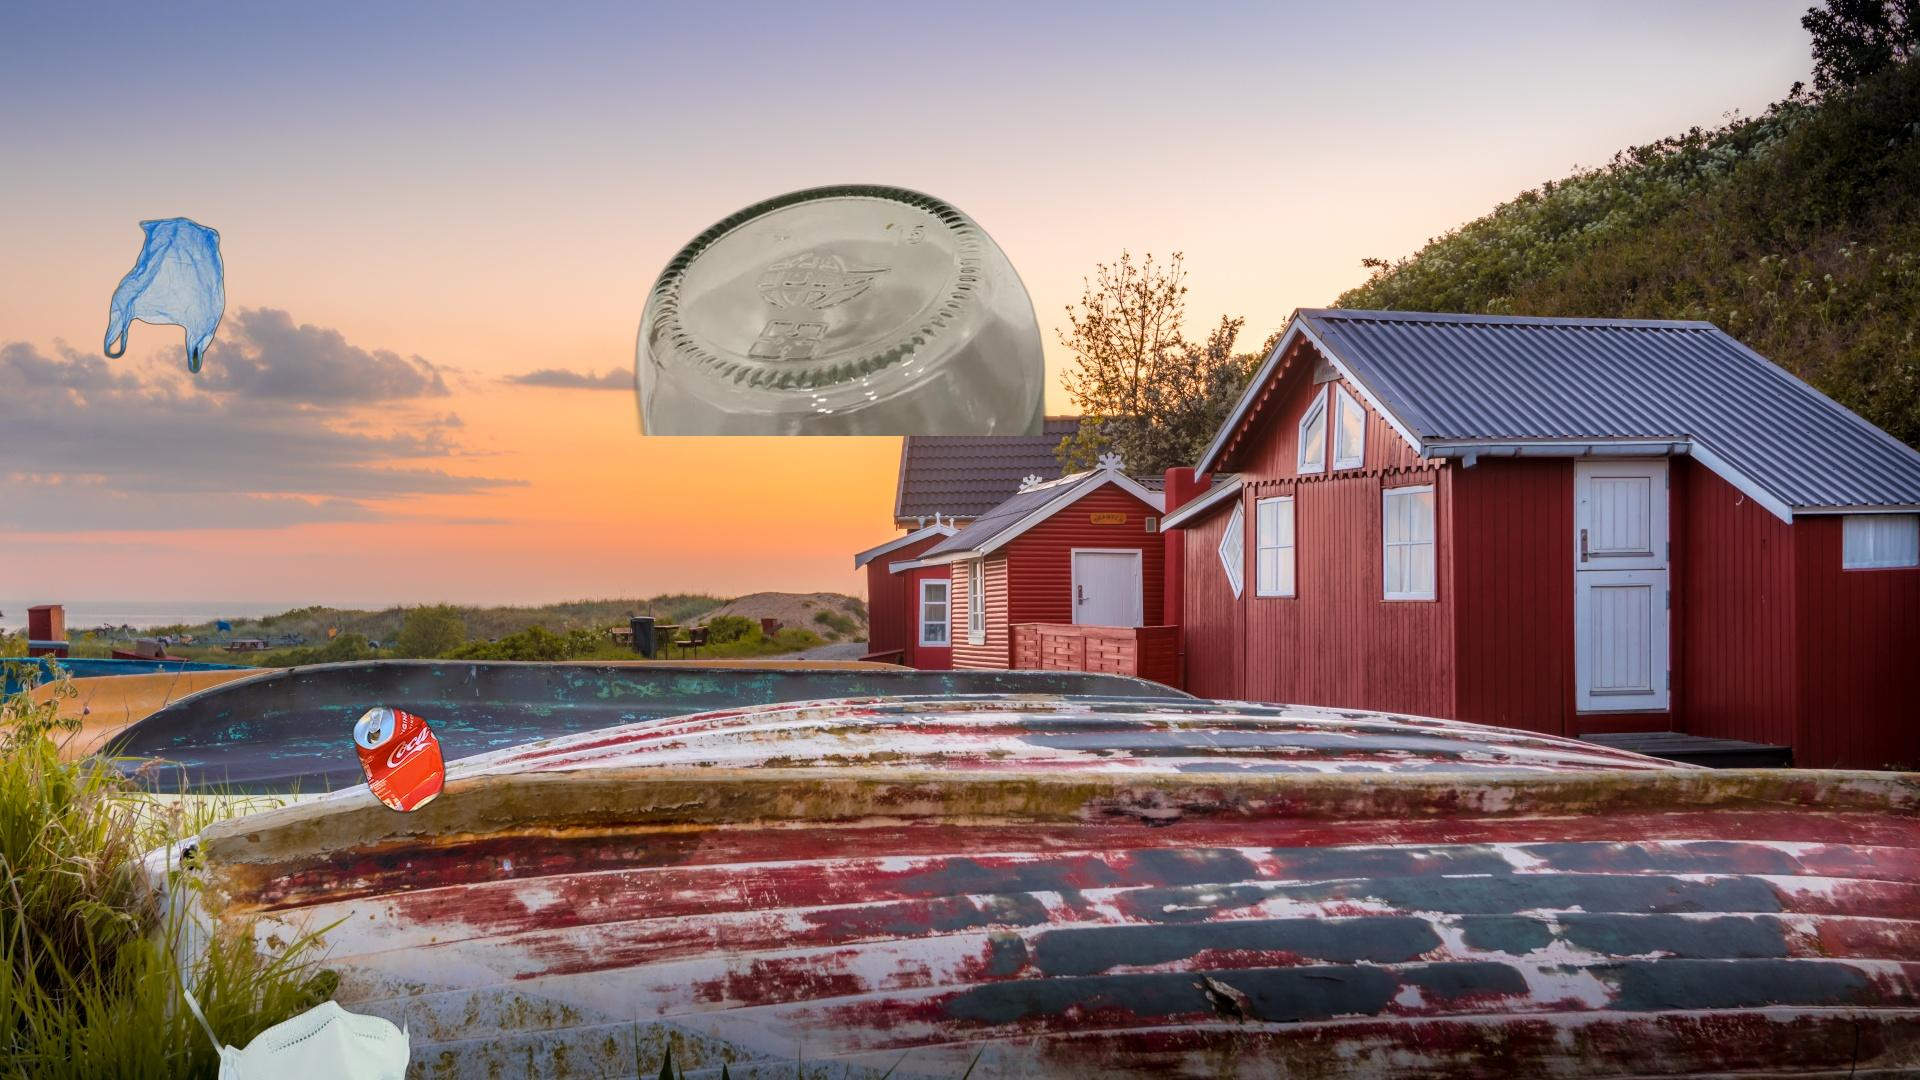glass: (630, 181, 1058, 436)
metal-cans: (349, 699, 450, 819)
plastic-bag: (102, 215, 228, 375)
trash: (177, 982, 413, 1080)
